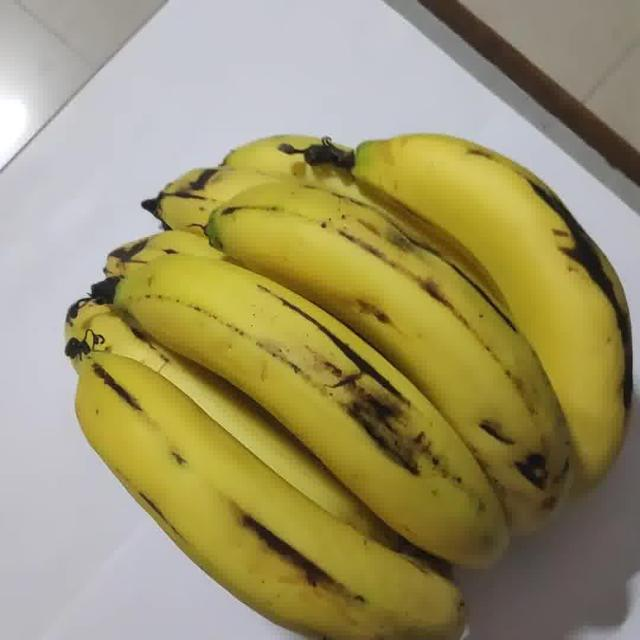Banana: (65, 135, 632, 639)
